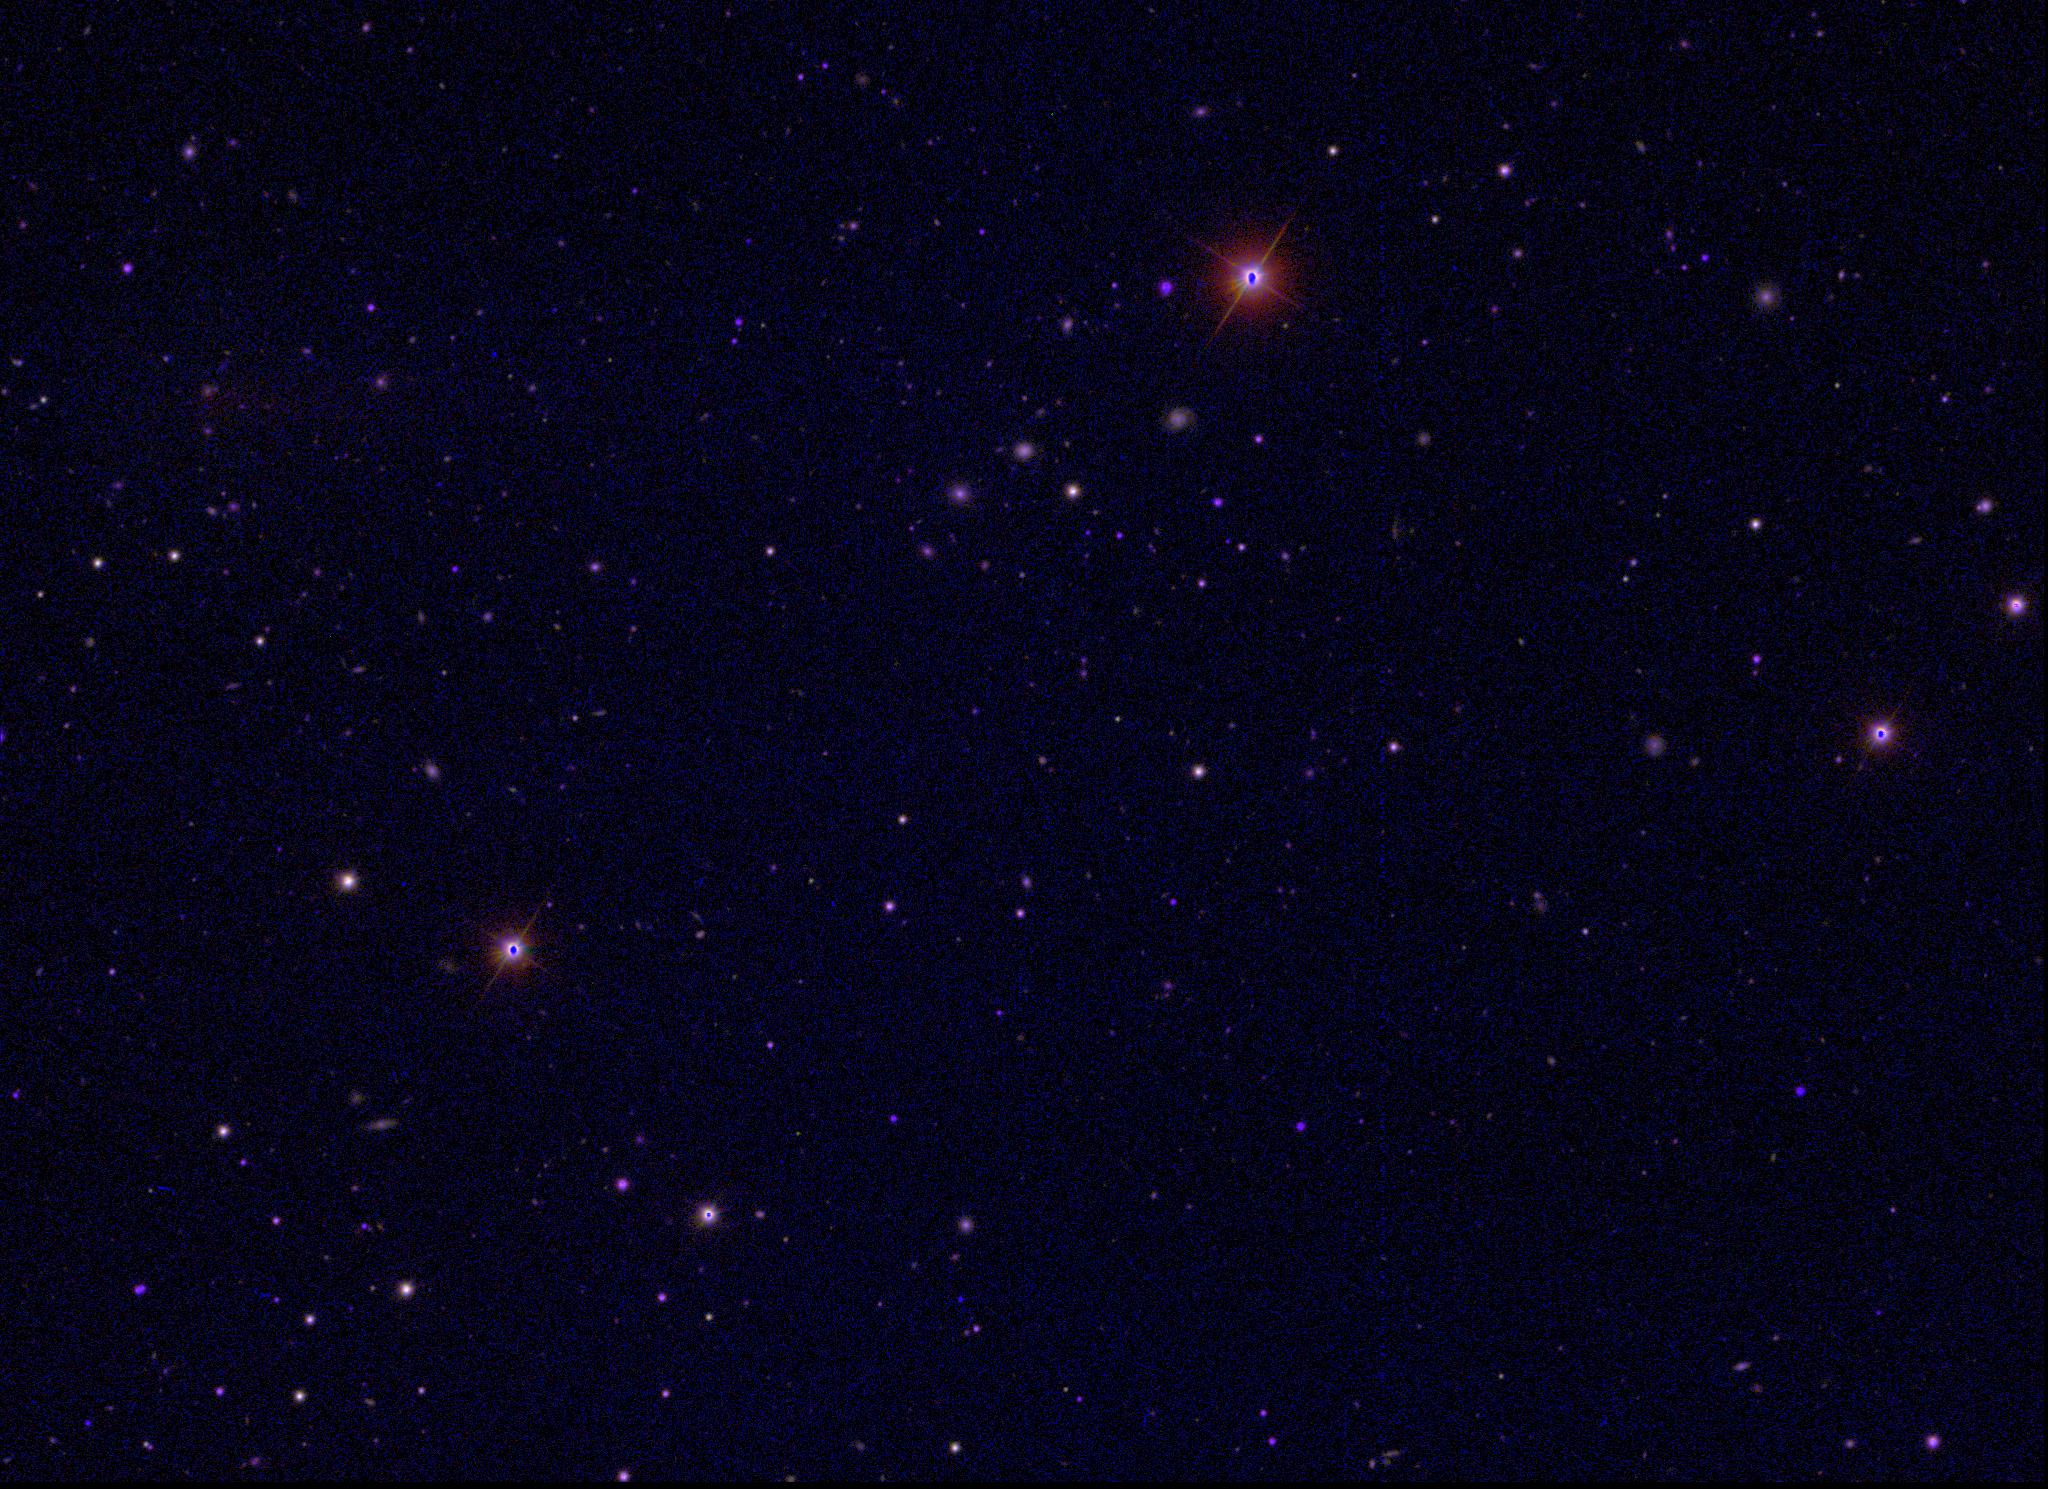L: (954, 1292, 968, 1306)
